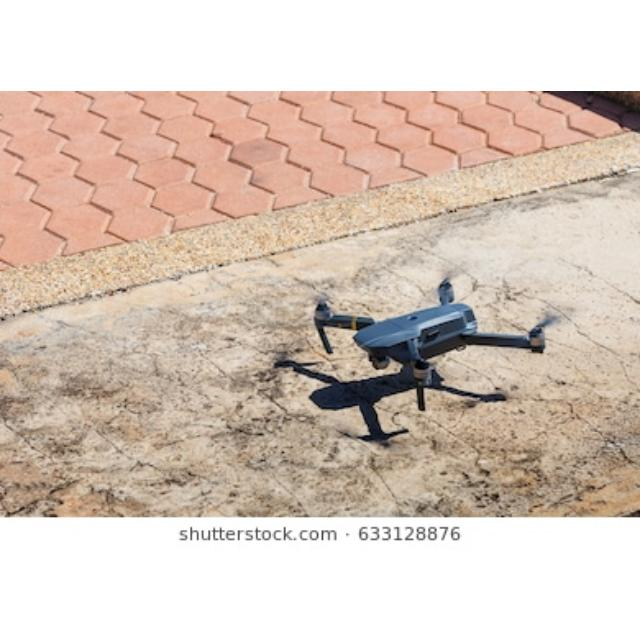Drones: (319, 294, 539, 380)
